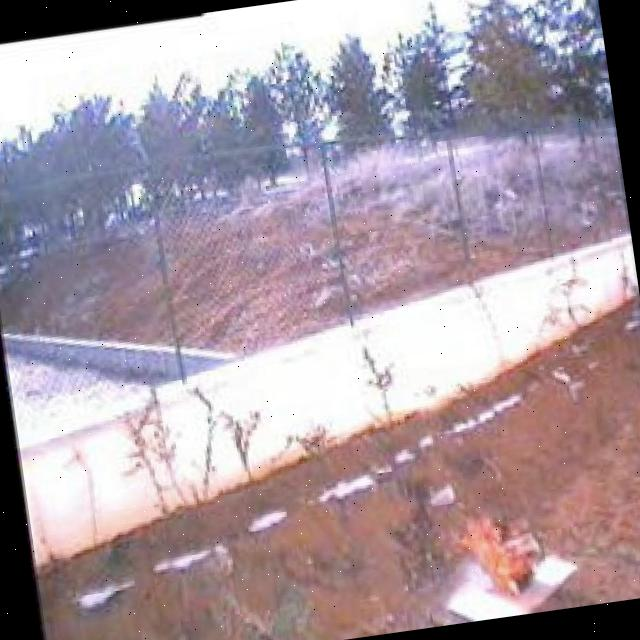fire: (448, 495, 548, 608)
